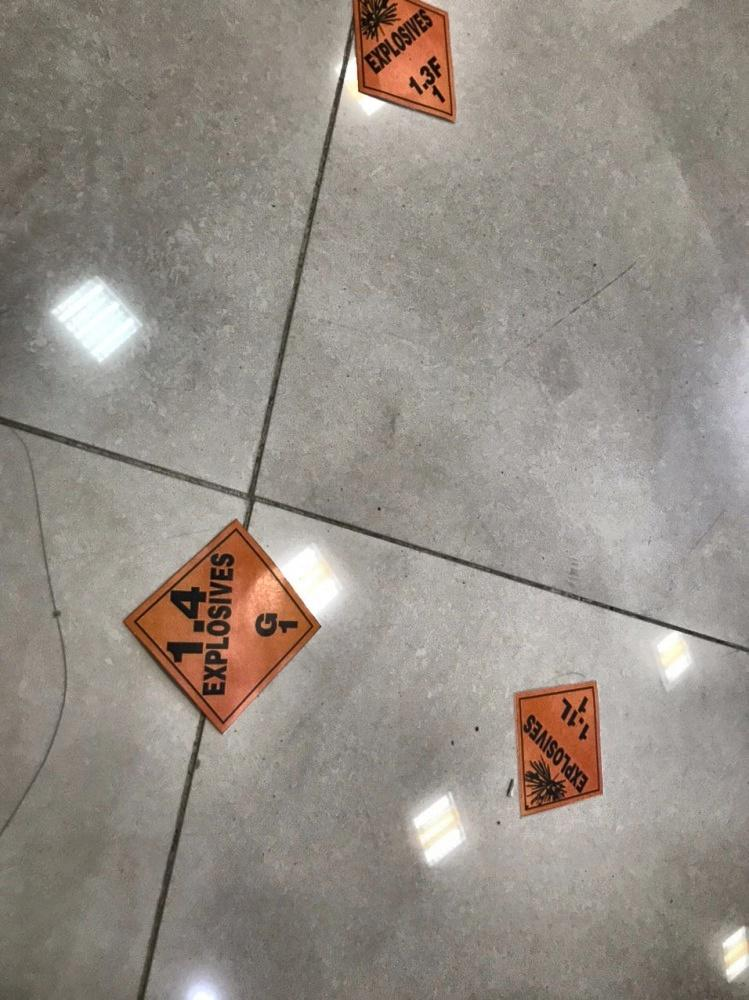explosive: (123, 517, 324, 733), (349, 1, 458, 126), (514, 683, 609, 819)
